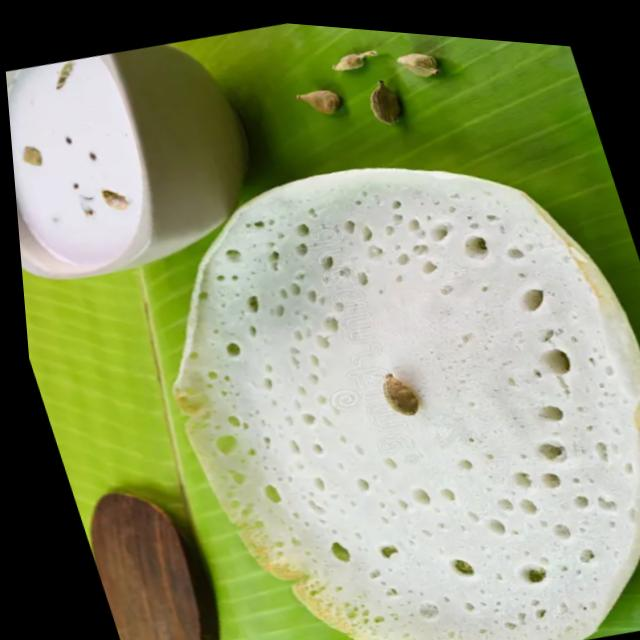CHICKEN CURRY: (171, 168, 640, 640)
SWEET: (7, 54, 141, 264)
